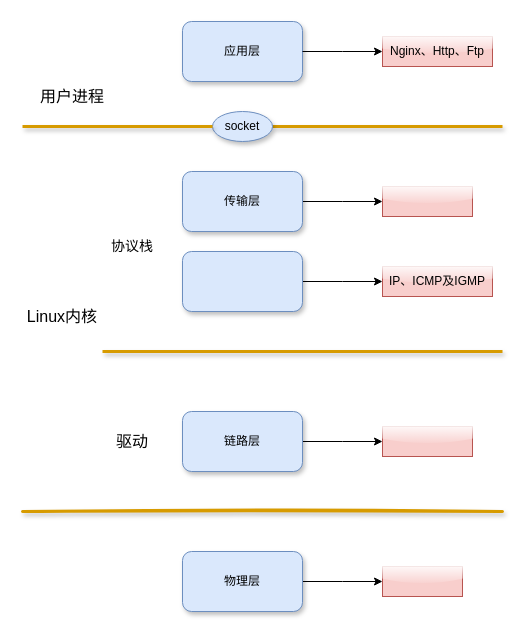
The diagram is 528 pixels wide and 636 high, and some of its shapes have lost their labels. Each missing label, with the centre of its shape:
TCP/UDP: (x=427, y=201)
网卡、网线: (x=422, y=581)
网络层: (x=243, y=282)
网络设备驱动: (x=427, y=441)
